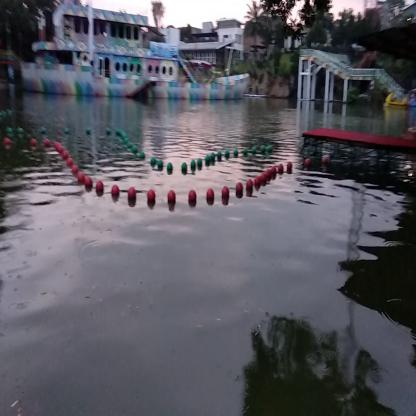green_buoy: (251, 146, 257, 153), (132, 146, 138, 152), (150, 157, 156, 163), (190, 160, 196, 166), (243, 147, 247, 155), (260, 145, 265, 151), (267, 145, 272, 151), (158, 159, 163, 165), (182, 162, 187, 168), (217, 151, 222, 156), (205, 155, 210, 160), (225, 149, 229, 155), (234, 149, 238, 155), (139, 152, 145, 156), (211, 152, 215, 158), (198, 158, 202, 164), (168, 162, 172, 168)
red_buoy: (166, 189, 178, 199), (84, 176, 93, 186), (146, 189, 156, 198), (127, 186, 136, 195), (111, 184, 119, 194), (235, 182, 243, 191), (206, 187, 215, 195), (187, 190, 196, 198), (322, 156, 329, 166), (96, 180, 104, 188), (221, 187, 230, 194), (304, 158, 311, 166), (254, 175, 261, 183), (247, 178, 253, 187), (287, 161, 293, 169), (261, 172, 266, 180), (278, 164, 283, 171), (272, 166, 276, 173), (266, 169, 270, 176)
